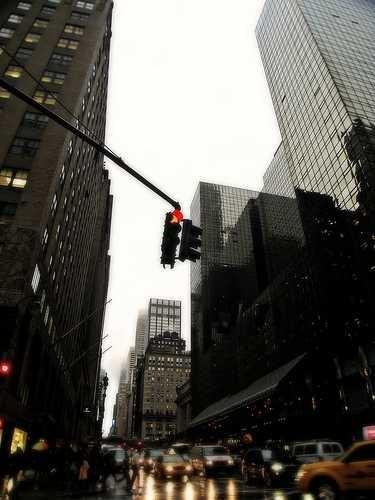red: (163, 209, 181, 267)
